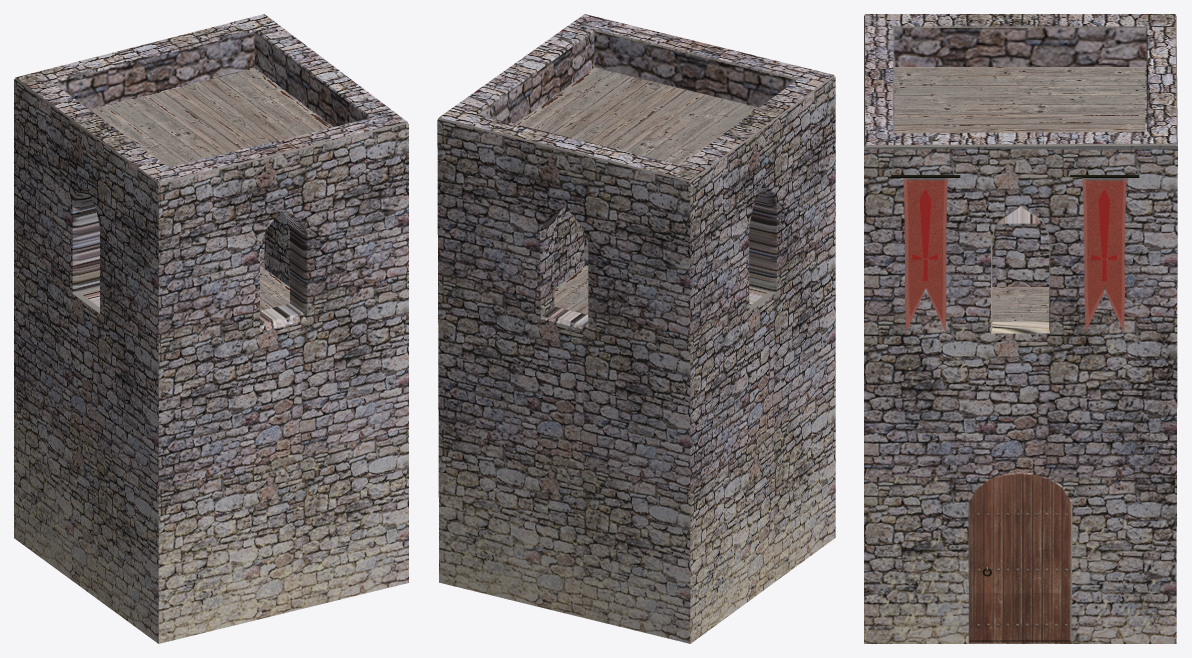
File: fort.obj
3 views of the same model, side by side, from view 1: azimuth 30°, elevation 25°; view 2: azimuth 150°, elevation 25°; view 3: azimuth 270°, elevation 25° (orthographic). The views are drawn at different scales.
Visible parts, largest first — view 1: tower_Cube.001; view 2: tower_Cube.001; view 3: tower_Cube.001.
Boxes of the visible parts, x1,y1,x2,y2 form: tower_Cube.001: [14, 14, 408, 643]; tower_Cube.001: [437, 14, 835, 643]; tower_Cube.001: [864, 14, 1177, 643].
Bounding box in the file's own units: 3.99 × 6.79 × 3.86.
